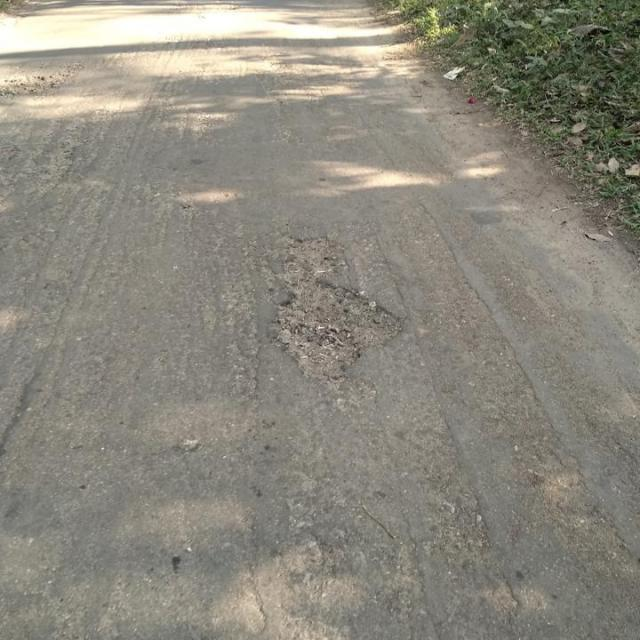pothole: (266, 234, 406, 386), (0, 59, 86, 102)
